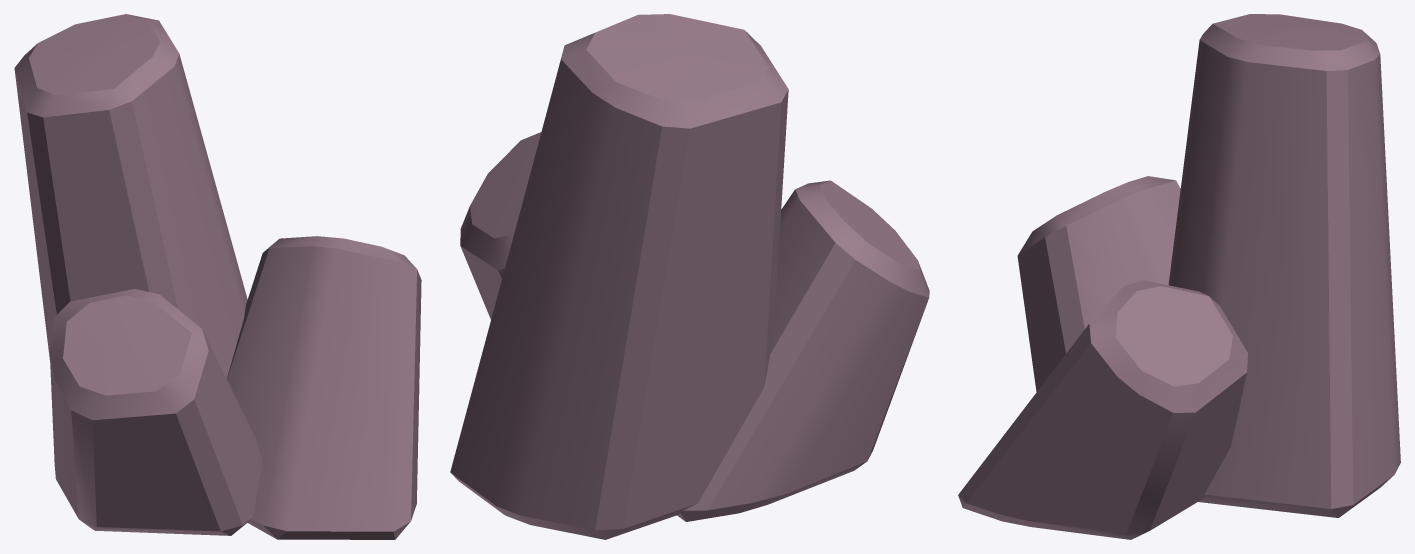
The model's file is crystal.glb.
3 renders of one model, left to right at view 1: azimuth 30°, elevation 25°; view 2: azimuth 150°, elevation 25°; view 3: azimuth 270°, elevation 25°, orthographic. The views are drawn at different scales.
Visible parts, largest first — view 1: Crystal_Small; view 2: Crystal_Small; view 3: Crystal_Small.
Boxes of the visible parts, x1,y1,x2,y2 form: Crystal_Small: [14, 14, 421, 539]; Crystal_Small: [450, 14, 929, 539]; Crystal_Small: [958, 14, 1400, 539].
Bounding box in the file's own units: 0.7645 × 0.8168 × 0.7817.
1 material, 1 textured.
